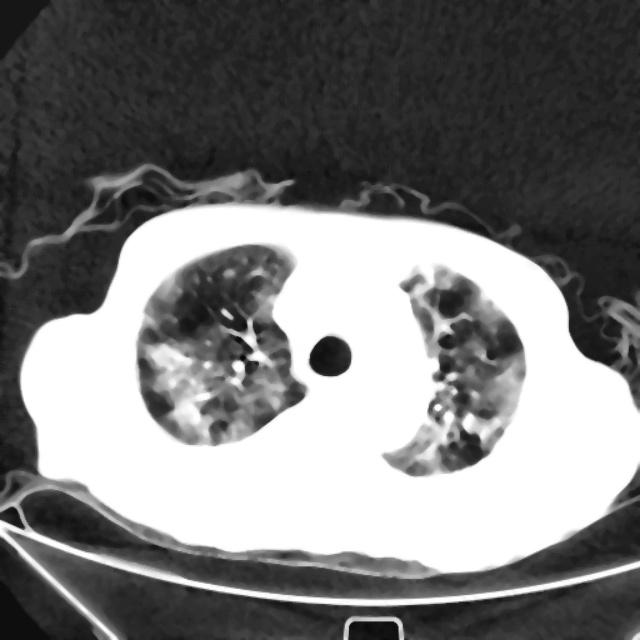covid: (381, 262, 526, 477)
